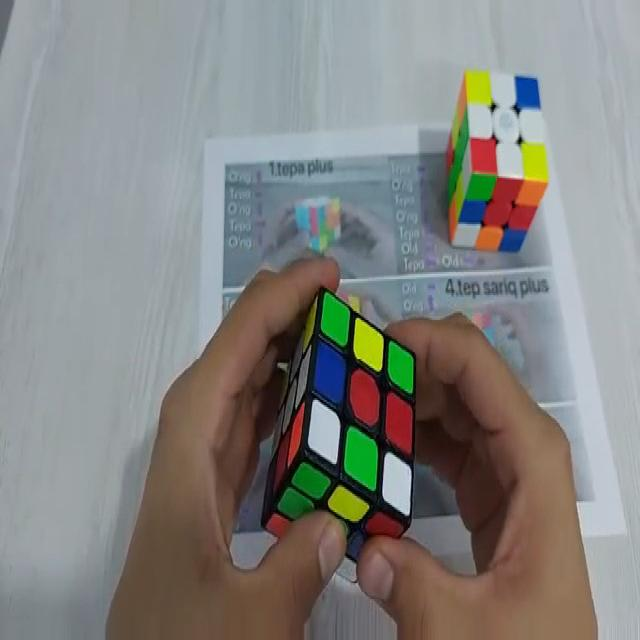Rub: (260, 287, 418, 584), (446, 66, 549, 254)
